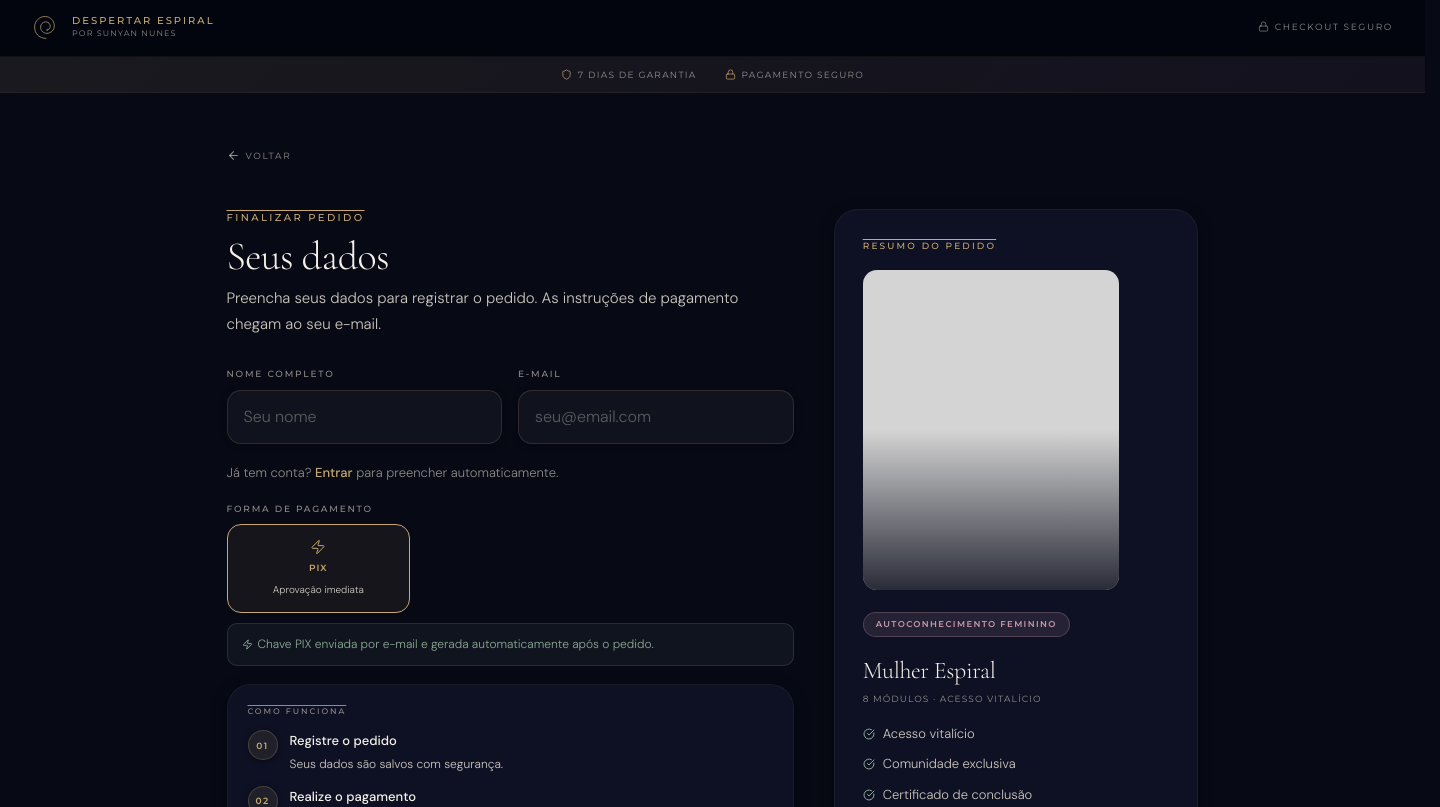
Test: CheckoutPage — form validation › shows 'Nome obrigatório' error when name is empty on submit
Step 1. Type "test@test.com" into the field with placeholder "seu@email.com" → (656, 416), box [518, 390, 794, 444]
(page scrolled)
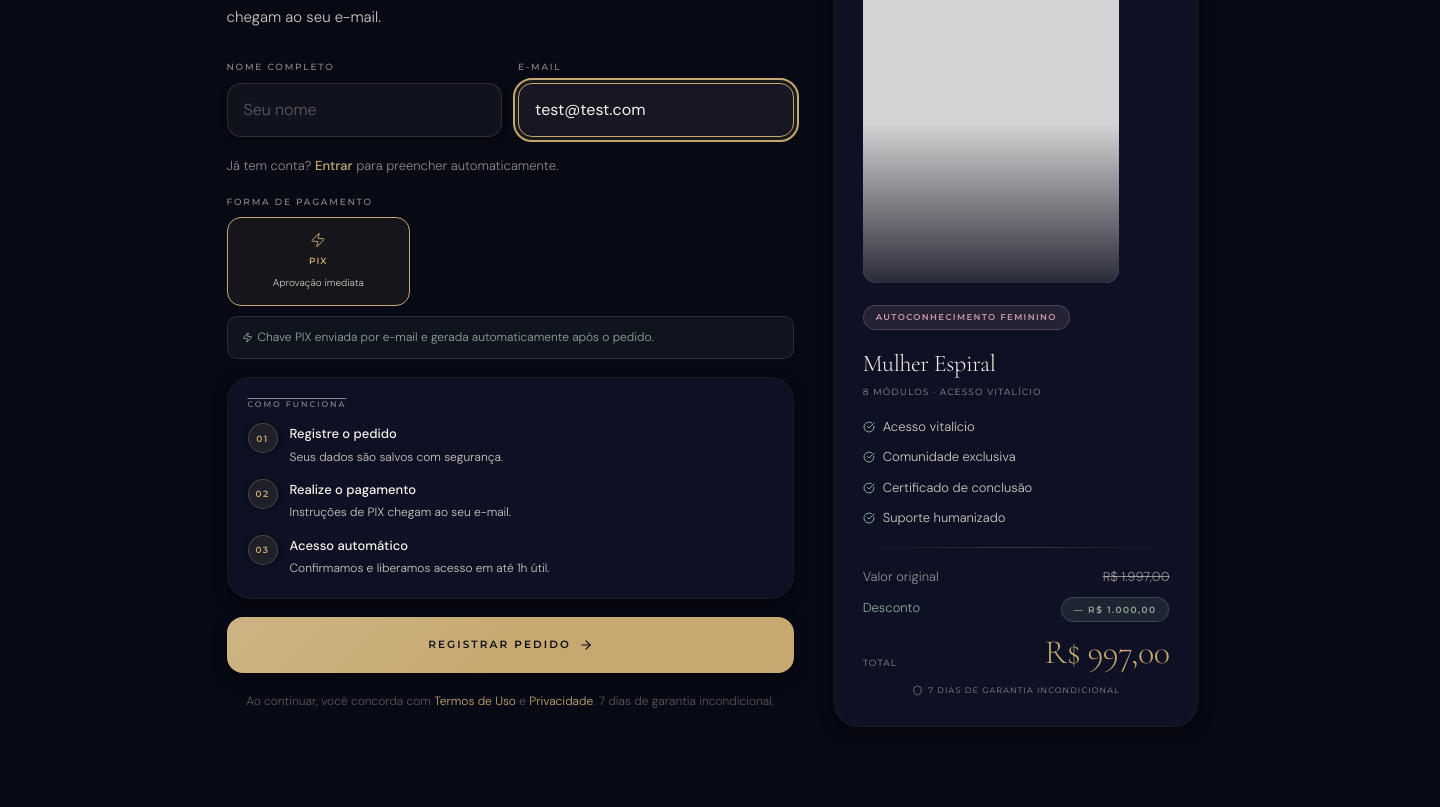
Step 2. Click the button "Registrar pedido" → (510, 645), box [226, 617, 794, 673]
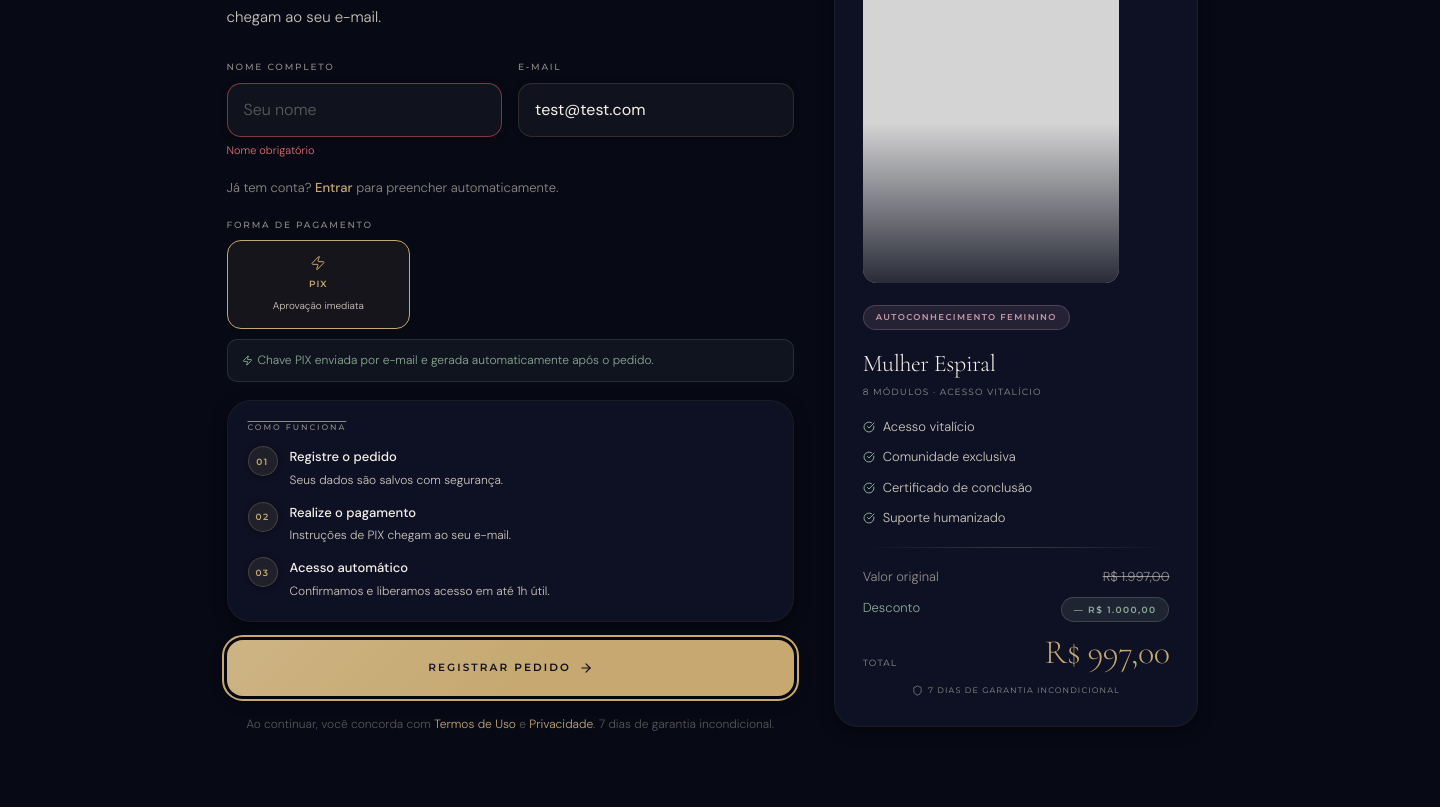
Result: the text "Nome obrigatório" is shown at [226, 142, 314, 156]
